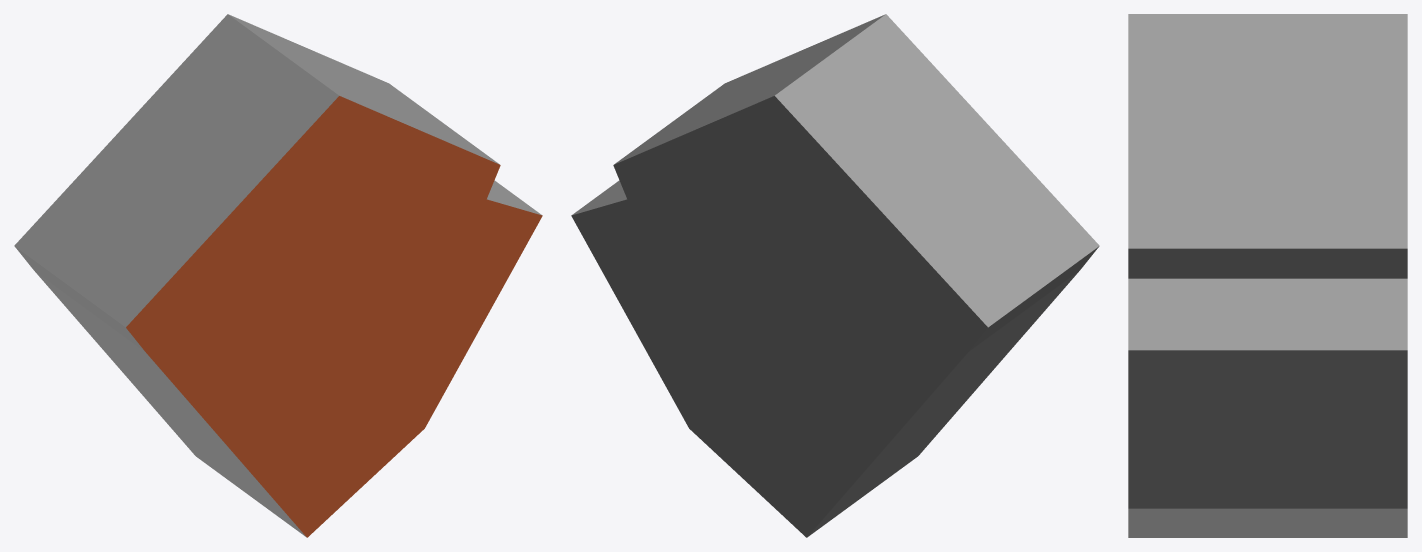
Rendered from construction_7180_assumed_A_Ruinas_h6m.obj.
The picture shows the model from 3 angles, left to right: view 1: azimuth 30°, elevation 25°; view 2: azimuth 150°, elevation 25°; view 3: azimuth 270°, elevation 25°; orthographic projection. The views are drawn at different scales.
Visible parts, largest first — view 1: construction_7180_assumed_A_Ruinas; view 2: construction_7180_assumed_A_Ruinas; view 3: construction_7180_assumed_A_Ruinas.
Part boxes in pixels (bbox=[...]): construction_7180_assumed_A_Ruinas: bbox=[14, 14, 542, 537]; construction_7180_assumed_A_Ruinas: bbox=[571, 14, 1099, 537]; construction_7180_assumed_A_Ruinas: bbox=[1128, 14, 1407, 537].
Bounding box in the file's own units: 12.94 × 12.88 × 6.
